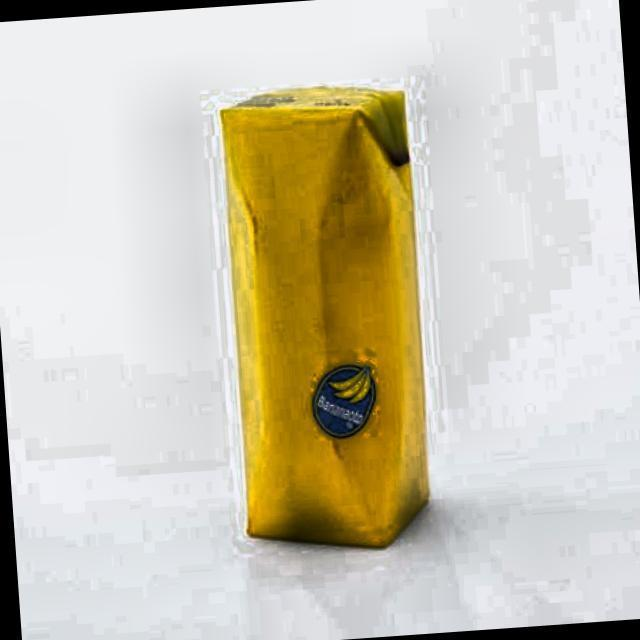cardboard: (215, 79, 438, 556)
